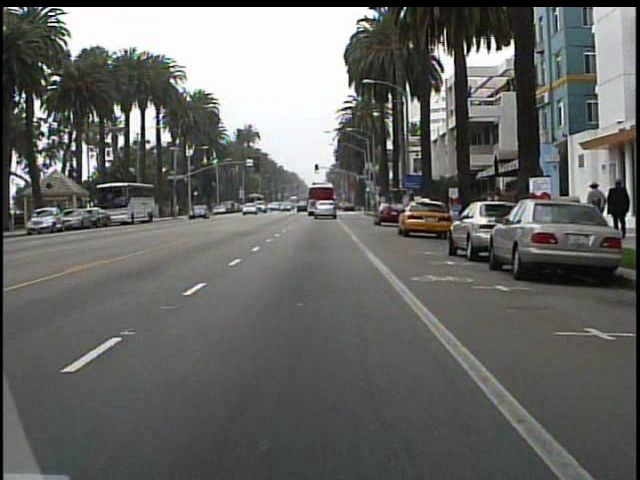person: (581, 178, 605, 240), (604, 174, 631, 222)
